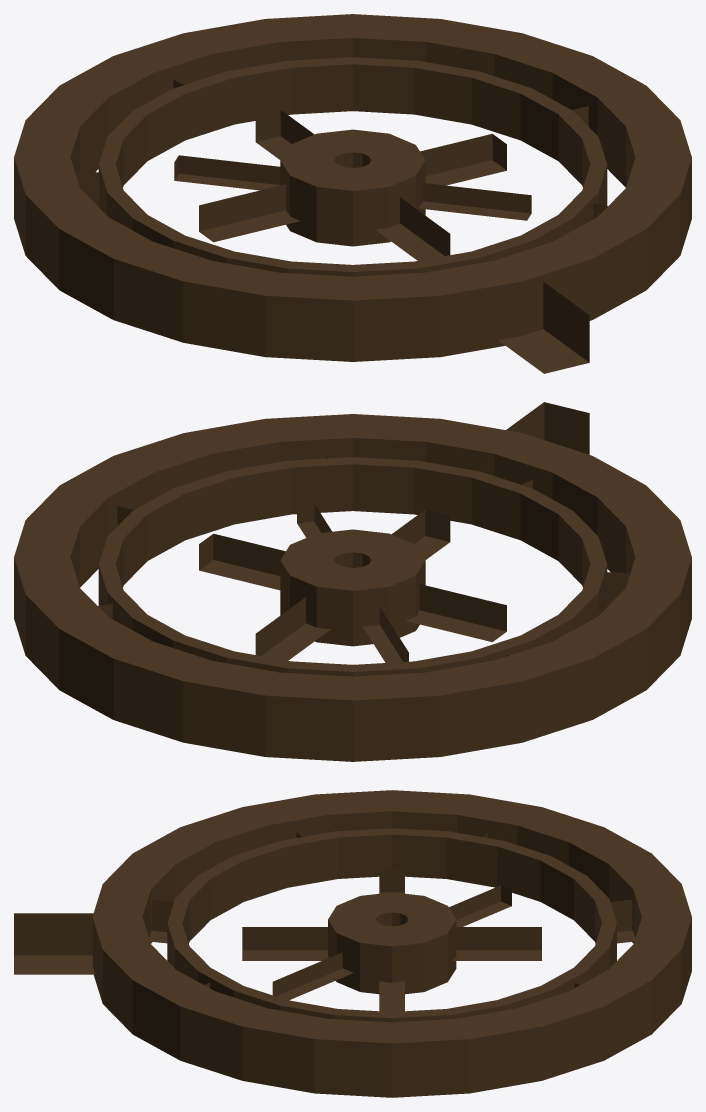
The model's file is WardAmulet_LOD1.obj.
The picture shows the model from 3 angles, top to bottom: view 1: azimuth 30°, elevation 25°; view 2: azimuth 150°, elevation 25°; view 3: azimuth 270°, elevation 25°; orthographic projection. The views are drawn at different scales.
Parts seen in each view (by area): view 1: VelegRadWardAmulet; view 2: VelegRadWardAmulet; view 3: VelegRadWardAmulet.
Boxes of the visible parts, box(x1,y1,x2,y2) form: VelegRadWardAmulet: box(14, 14, 691, 373); VelegRadWardAmulet: box(14, 402, 691, 761); VelegRadWardAmulet: box(14, 790, 691, 1097).
Bounding box in the file's own units: 8.4 × 0.84 × 9.5.
